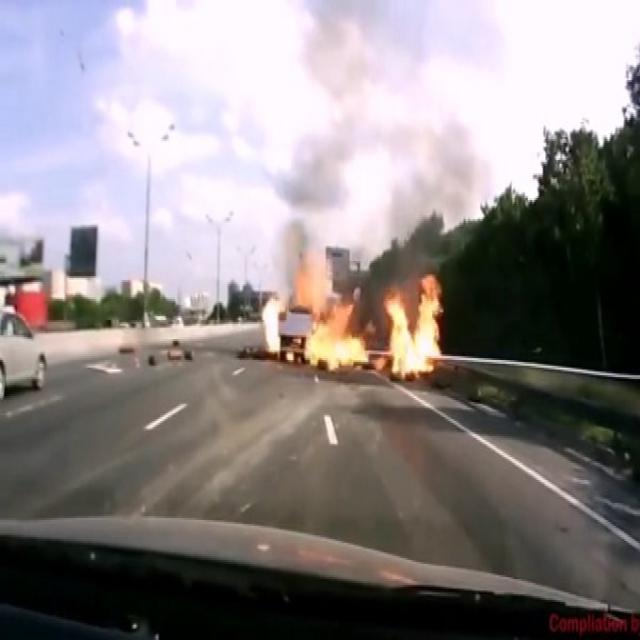fire: (295, 253, 445, 383), (258, 290, 282, 354)
